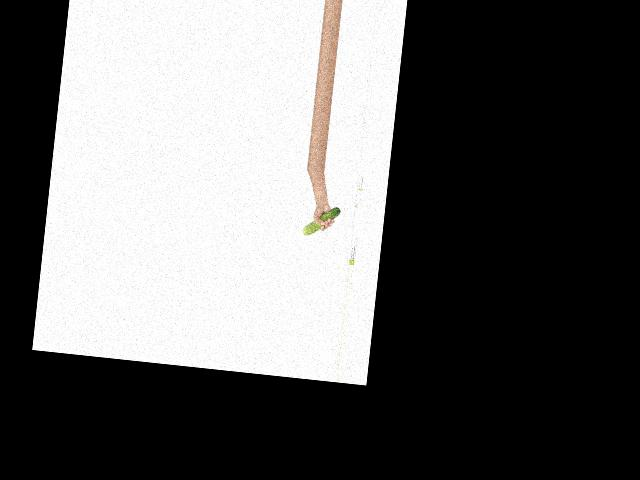cucumber: (302, 202, 341, 238)
